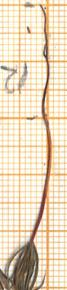flower: (0, 237, 50, 290)
root: (37, 1, 51, 119)
stem: (26, 120, 55, 242)
